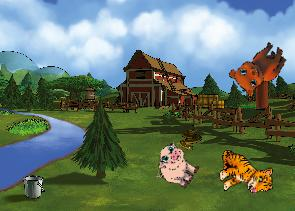bear: (224, 31, 291, 102)
pig: (149, 139, 204, 193)
tiger: (217, 148, 273, 195)
